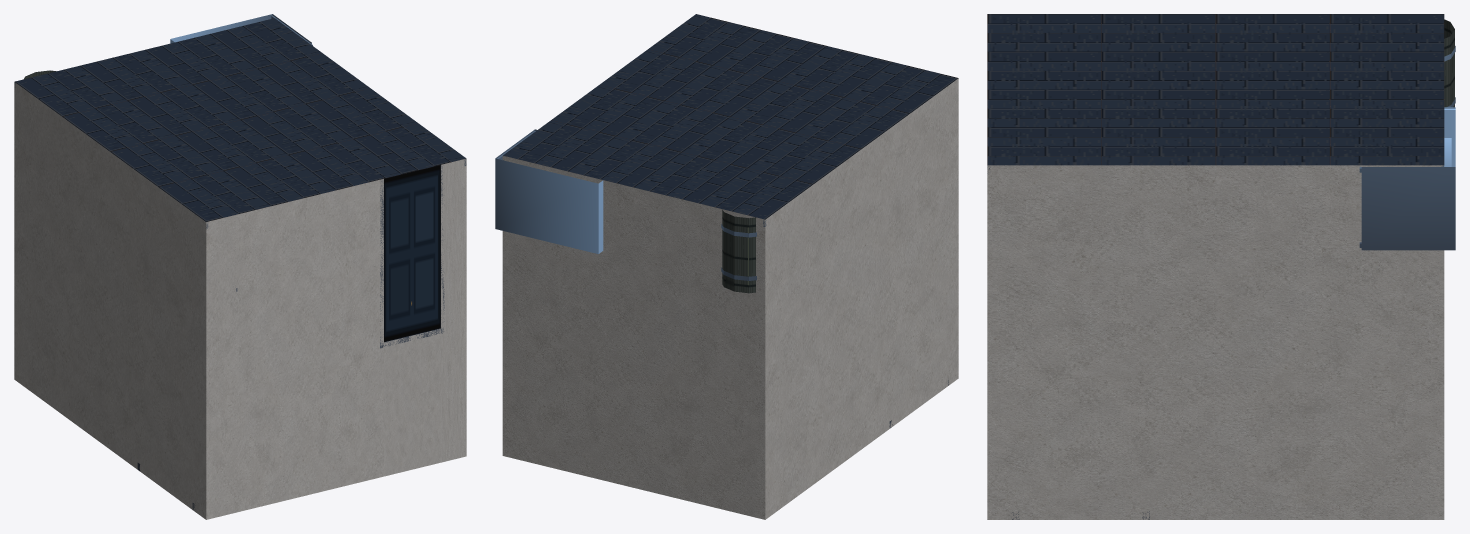
The model's file is room1181.obj.
The picture shows the model from 3 angles, left to right: view 1: azimuth 30°, elevation 25°; view 2: azimuth 150°, elevation 25°; view 3: azimuth 270°, elevation 25°; orthographic projection. The views are drawn at different scales.
Visible parts, largest first — view 1: skirting_chest_end, walls, floor, door, skirting_door_end, door_jamb, chest_body; view 2: walls, floor, chest_body, barrel; view 3: walls, floor, chest_body, barrel, chest_side_rail.
Part boxes in pixels (box(x1,y1,x2,y2)): skirting_chest_end: box(14, 82, 466, 519); walls: box(14, 82, 206, 519); floor: box(15, 18, 466, 221); door: box(384, 165, 440, 342); skirting_door_end: box(205, 165, 440, 476); door_jamb: box(380, 165, 444, 347); chest_body: box(170, 14, 311, 44); walls: box(502, 78, 958, 519); floor: box(503, 14, 958, 219); chest_body: box(495, 129, 603, 253); barrel: box(722, 210, 755, 293); walls: box(987, 165, 1444, 519); floor: box(987, 14, 1444, 165); chest_body: box(1361, 107, 1455, 250); barrel: box(1444, 19, 1454, 107); chest_side_rail: box(1361, 109, 1455, 247).
Size of the model in its own units: 5546 by 6000 by 7182.
9 materials, 2 textured.
